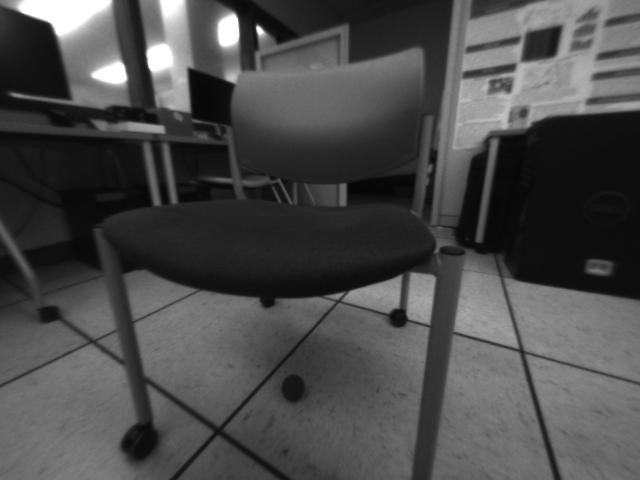dogtoy: (279, 370, 311, 405)
